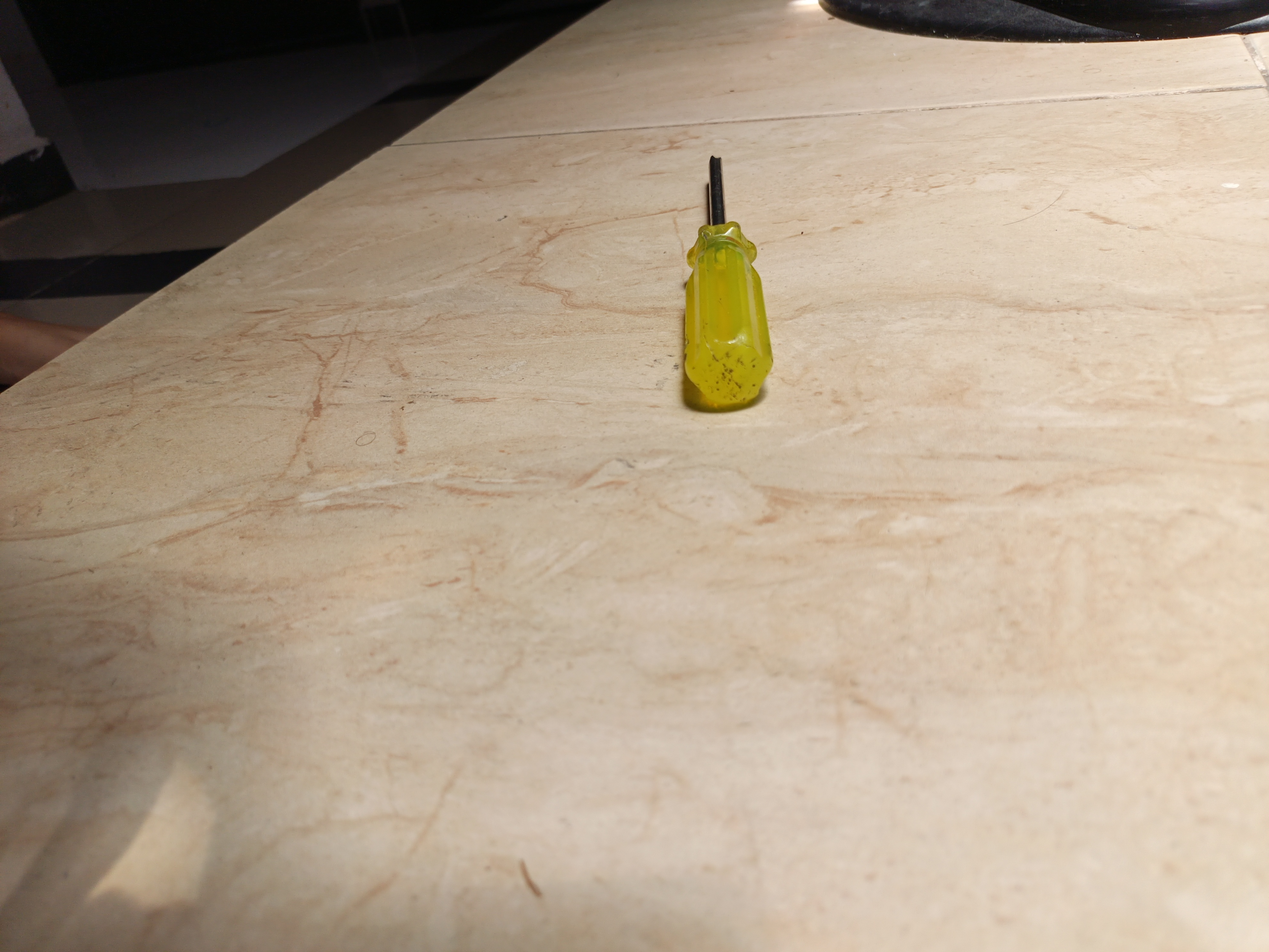Destornillador: (684, 157, 772, 405)
